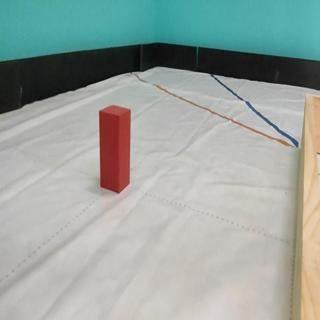redbox: (97, 103, 130, 193)
